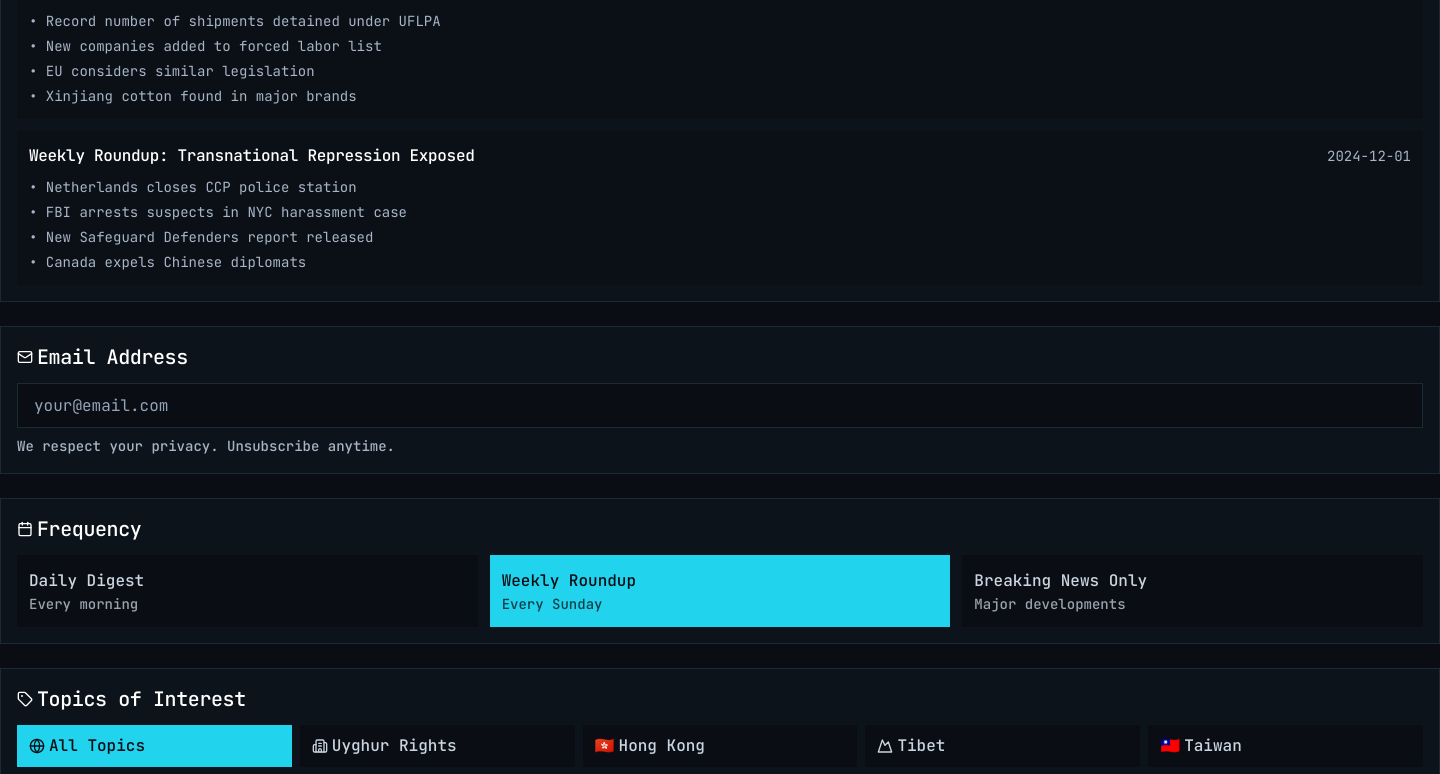
Test: NewsDigest › shows error message when Supabase subscription fails
The width and height of the screenshot is (1440, 774).
(page scrolled)
Type "test@test.com" into the field named "Email Address".
click(720, 406); type("test@test.com")  # box x1=17 y1=383 x2=1423 y2=428
(page scrolled)
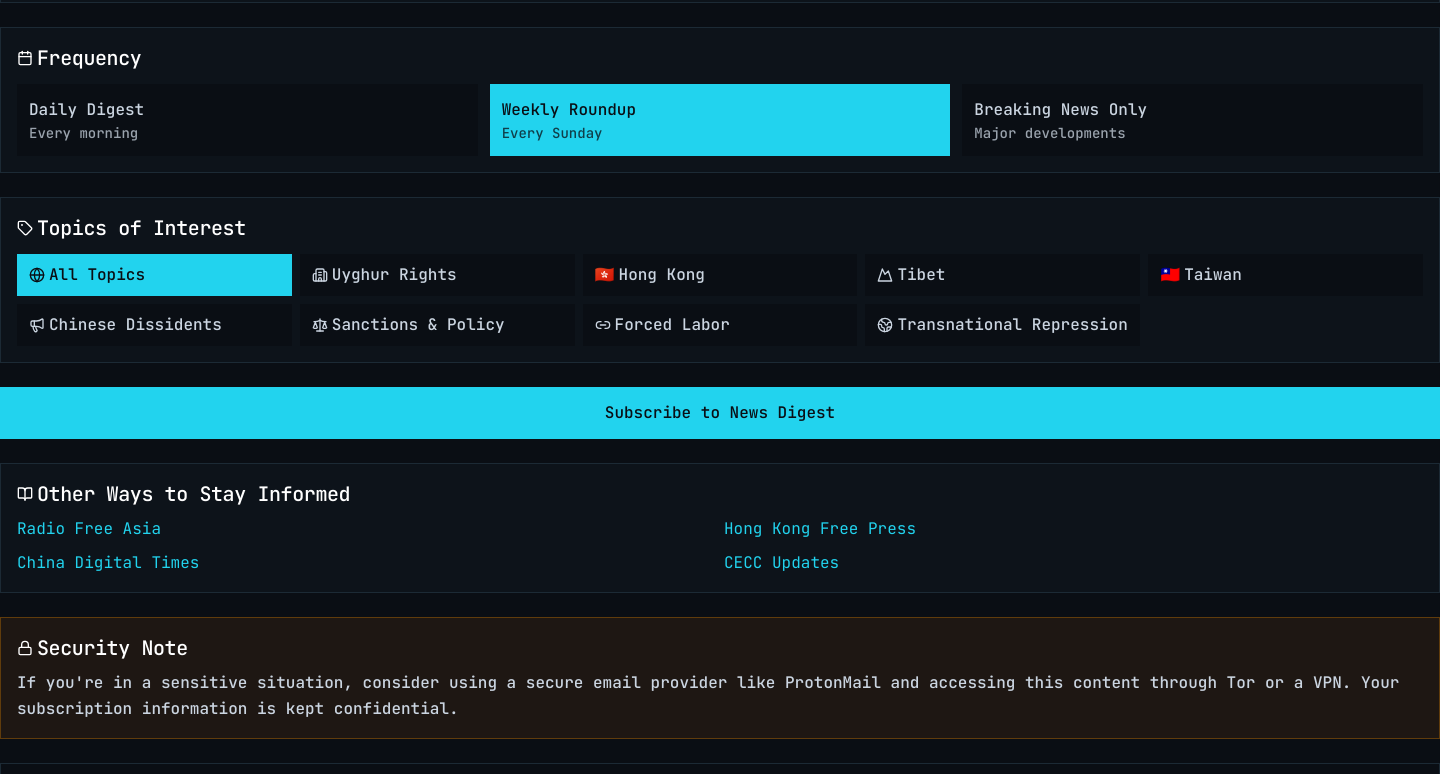
Click the button "Subscribe to News Digest".
click(720, 413)  # box x1=0 y1=387 x2=1439 y2=439
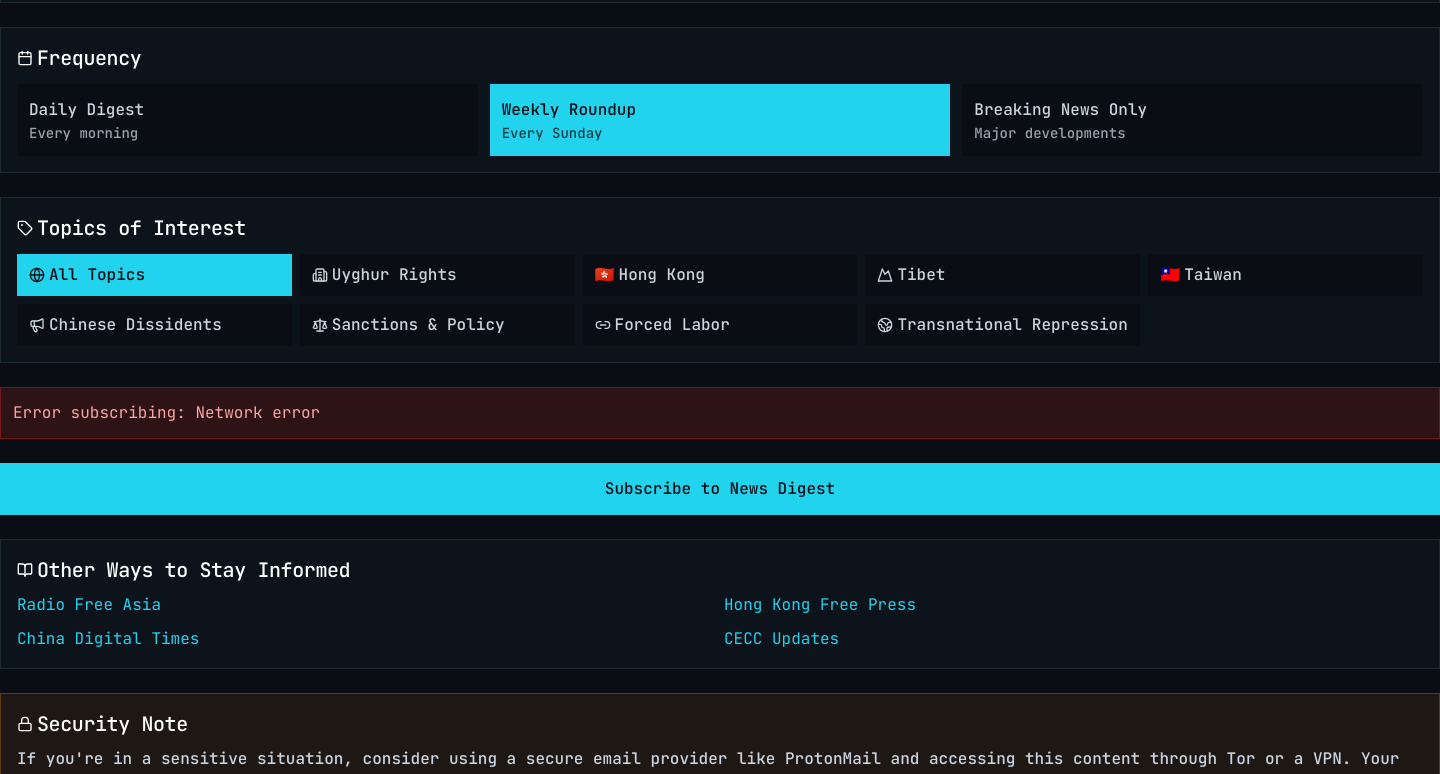
Expected: the text "Error subscribing: Network error" is shown, x1=0 y1=387 x2=1439 y2=439
